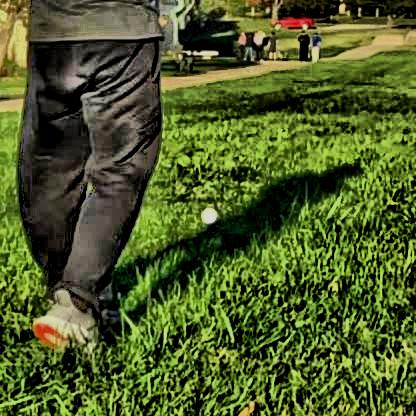golfball: (198, 204, 215, 223)
